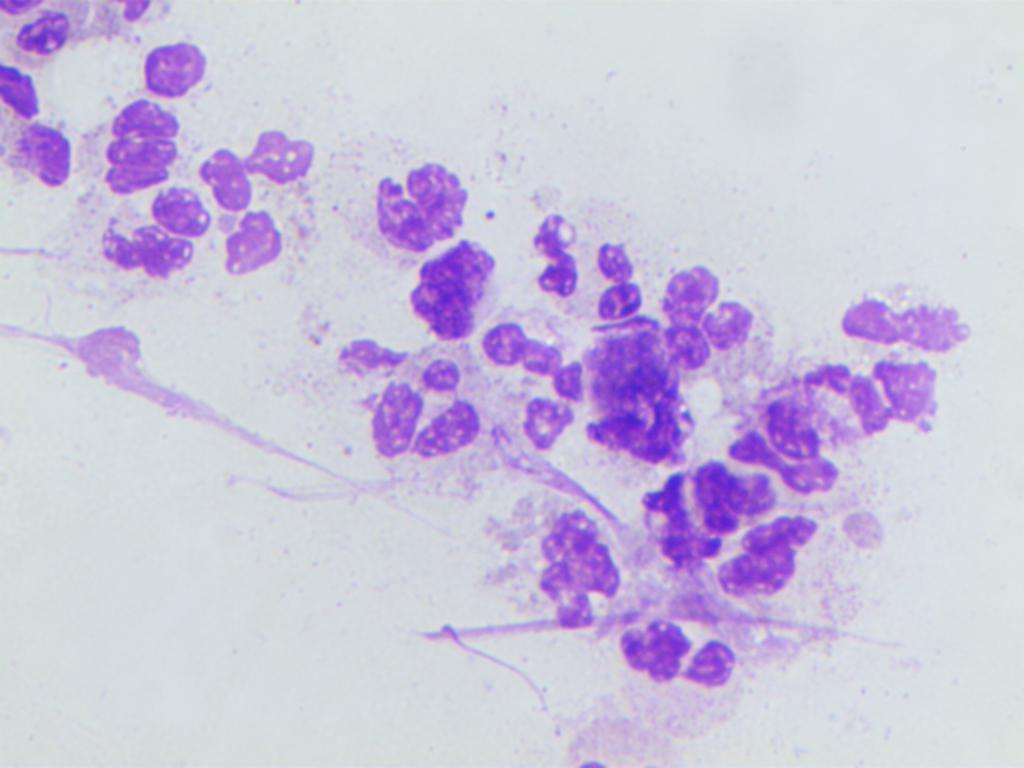neutrophil: (322, 331, 500, 487), (202, 124, 333, 290), (464, 307, 587, 480), (516, 187, 658, 333), (503, 499, 626, 633), (79, 173, 213, 294), (359, 144, 494, 262), (656, 262, 775, 390), (581, 617, 782, 691), (394, 233, 507, 348), (718, 393, 839, 498), (620, 458, 731, 571), (717, 511, 845, 601), (82, 99, 183, 194), (694, 437, 779, 529), (131, 38, 220, 97)
